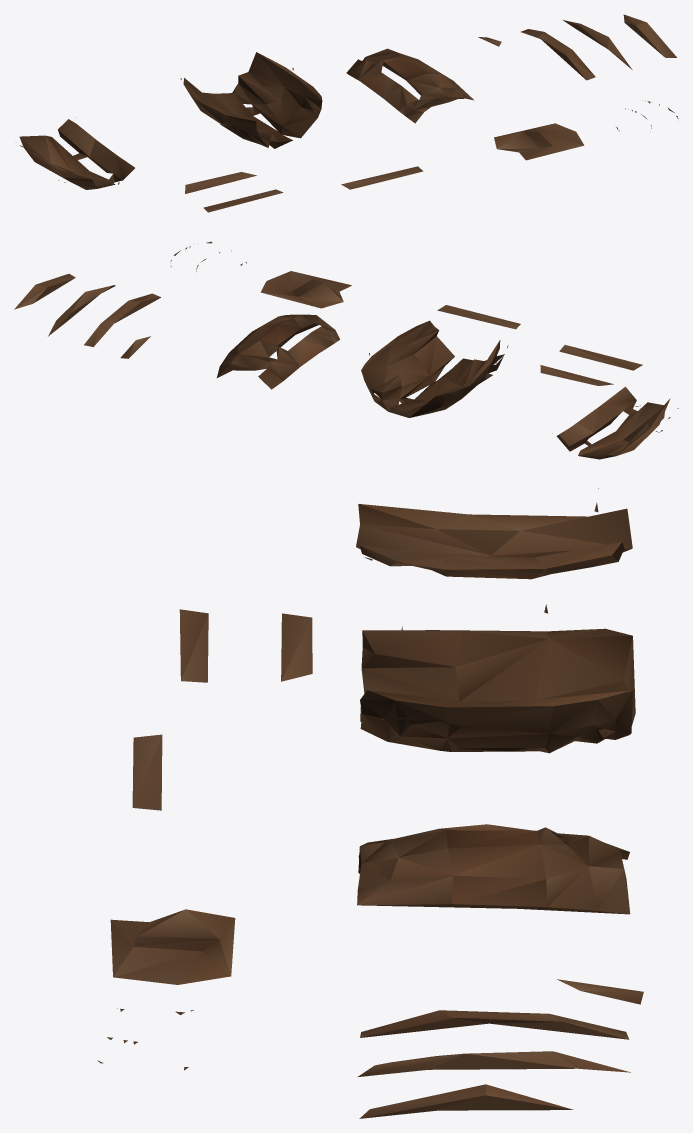
The model's file is staves.glb.
3 renders of one model, top to bottom at view 1: azimuth 30°, elevation 25°; view 2: azimuth 150°, elevation 25°; view 3: azimuth 270°, elevation 25°, orthographic. The views are drawn at different scales.
Parts seen in each view (by area): view 1: staves; view 2: staves; view 3: staves.
Boxes of the visible parts, box(x1,y1,x2,y2) form: staves: box(19, 14, 678, 212); staves: box(14, 241, 678, 459); staves: box(97, 488, 643, 1118).
Size of the model in its own units: 14.53 by 1.18 by 6.19.
